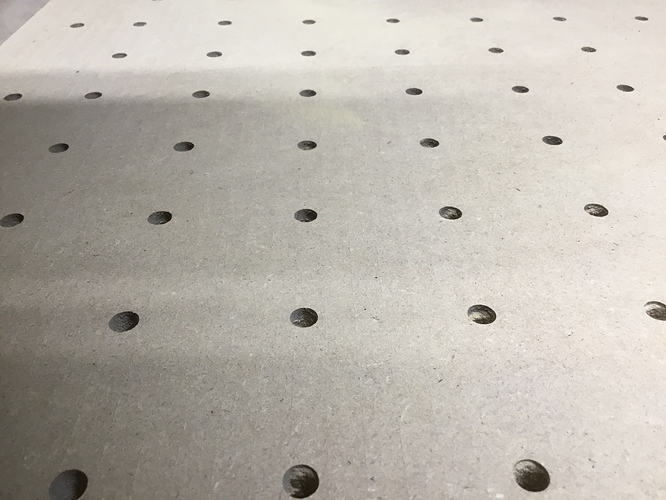hole: (279, 461, 324, 500), (509, 457, 554, 495), (45, 467, 94, 499), (287, 304, 322, 331), (108, 307, 143, 333), (465, 301, 499, 327), (1, 204, 26, 232), (641, 297, 666, 325), (436, 202, 465, 224), (145, 207, 175, 228), (583, 201, 611, 221), (292, 207, 320, 226), (48, 134, 70, 156), (294, 137, 321, 154), (418, 134, 442, 152), (172, 137, 196, 155), (540, 132, 565, 149), (190, 87, 213, 104), (613, 81, 638, 96), (3, 88, 25, 105), (82, 86, 105, 102), (299, 46, 320, 62), (68, 17, 88, 32), (403, 84, 426, 97), (296, 88, 320, 100), (510, 84, 530, 98), (110, 48, 130, 61), (579, 43, 599, 56), (300, 15, 318, 29), (551, 12, 570, 25), (631, 12, 651, 24), (132, 18, 150, 31), (205, 49, 225, 60), (485, 46, 506, 56), (215, 18, 234, 29), (386, 15, 403, 27), (468, 15, 486, 25), (394, 48, 411, 58)
